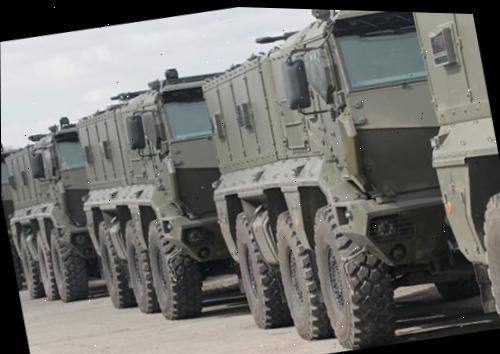truck: (160, 5, 476, 354), (69, 67, 245, 337), (1, 108, 104, 309), (1, 144, 27, 296)
